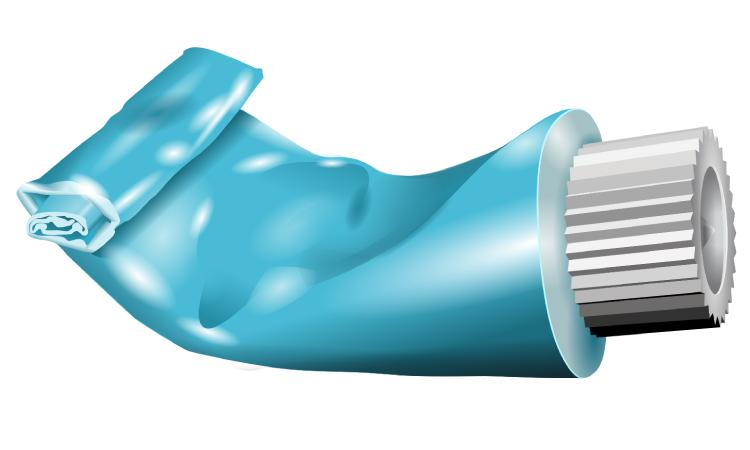toothpaste: (7, 18, 750, 397)
